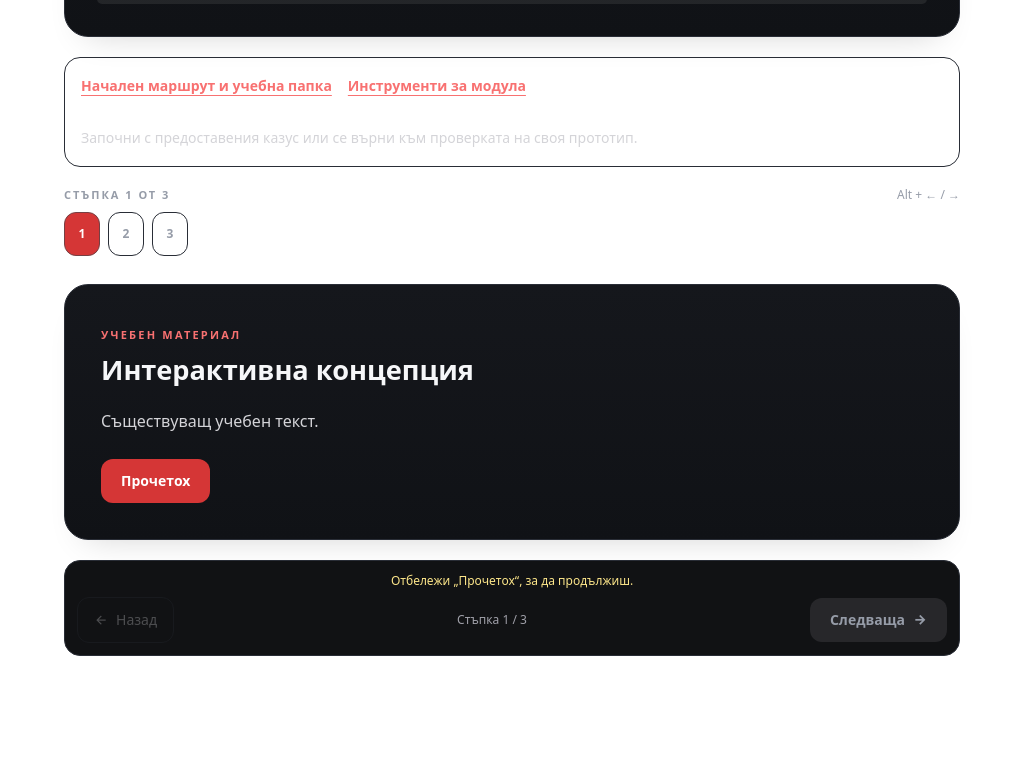
Scenario: Lesson Engine V2 learning flow › records reading and advances without claiming mastery in s01-m01
(page scrolled)
Expected: the text "Учебен материал" is shown, x1=101 y1=326 x2=241 y2=342
Expected: the text "Съществуващ учебен текст." is shown, x1=101 y1=410 x2=319 y2=432
Step 1. Click the button "Прочетох" → point(156, 480), box x1=101 y1=458 x2=210 y2=502
(page scrolled)
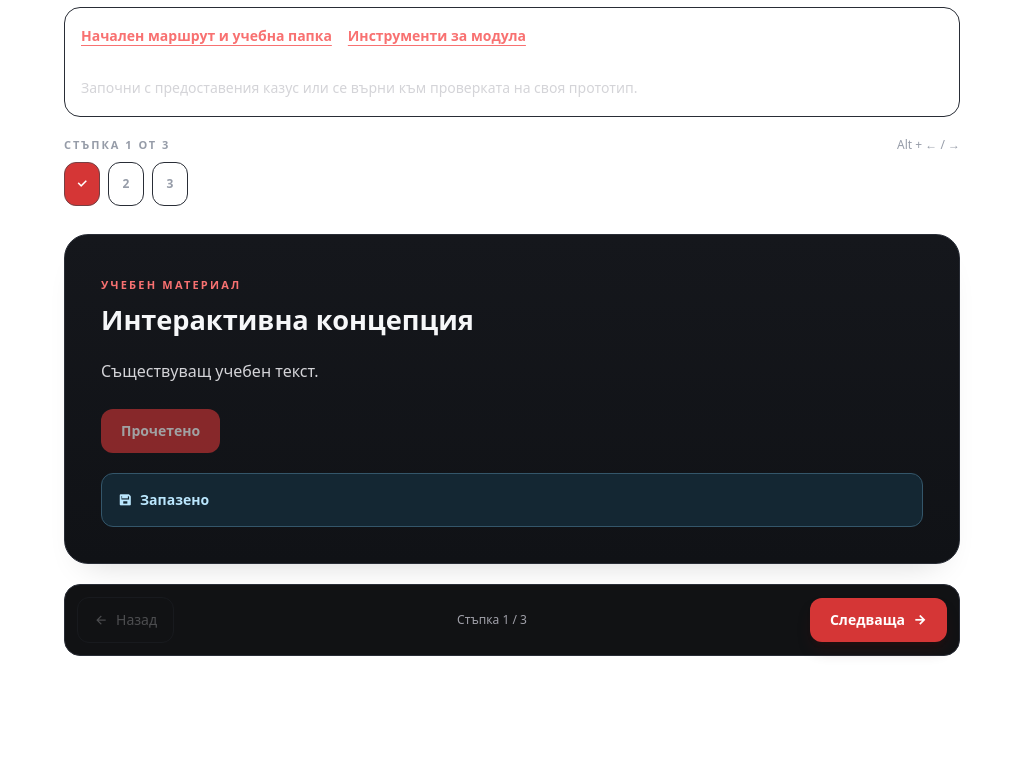
Result: the button "Следваща" is enabled
Step 2. Click the button "Следваща" → point(878, 620), box x1=810 y1=598 x2=947 y2=642
(page scrolled)
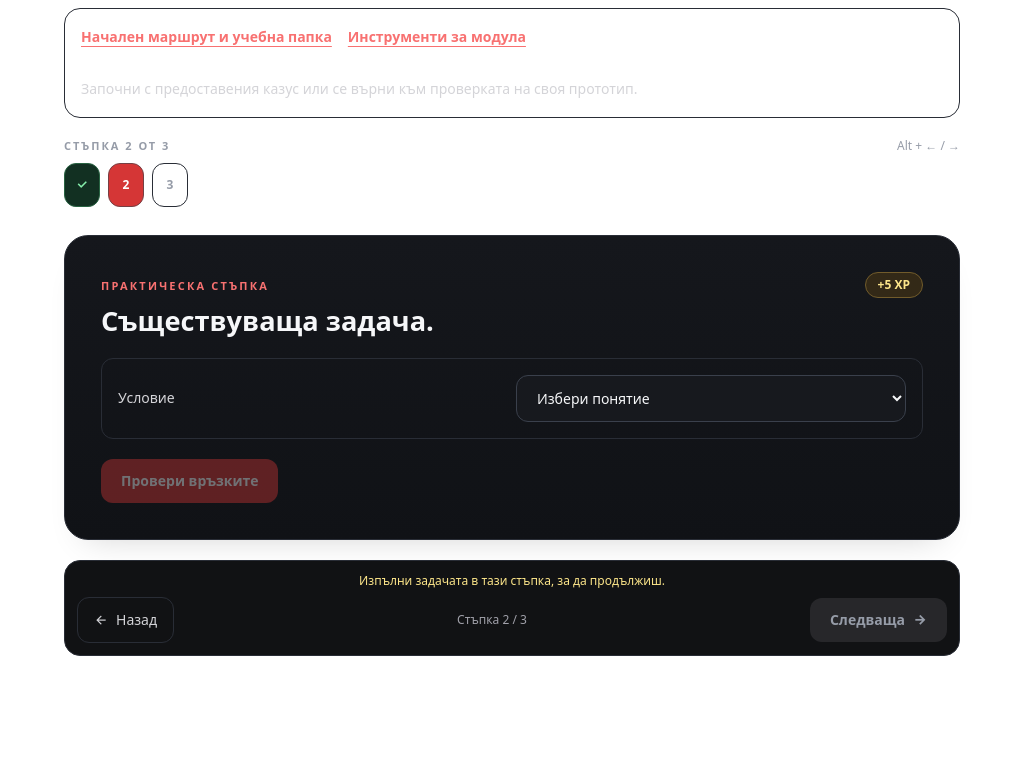
Result: the heading "Съществуваща задача." is shown at x1=101 y1=304 x2=434 y2=338
Result: the dropdown is shown at x1=516 y1=374 x2=906 y2=422
Result: the button "Провери връзките" is shown at x1=101 y1=458 x2=278 y2=502
